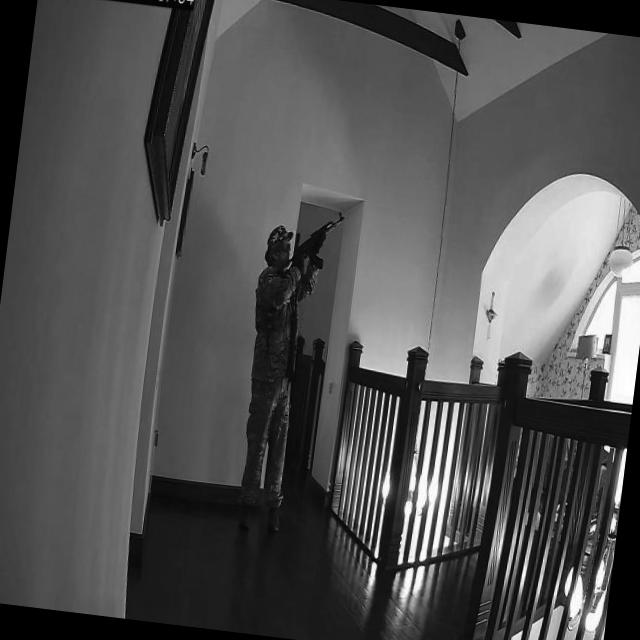gun: (282, 205, 346, 277)
person with a gun: (228, 203, 352, 542)
